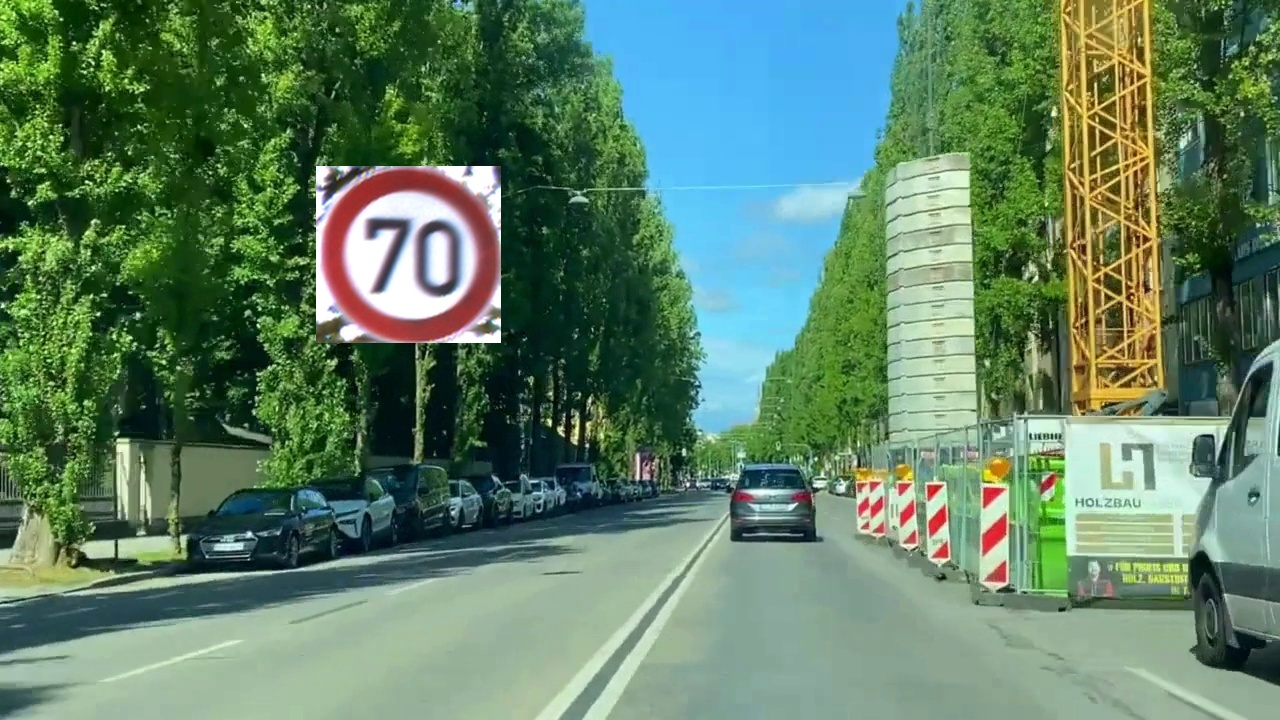Speed 70: (316, 166, 501, 343)
